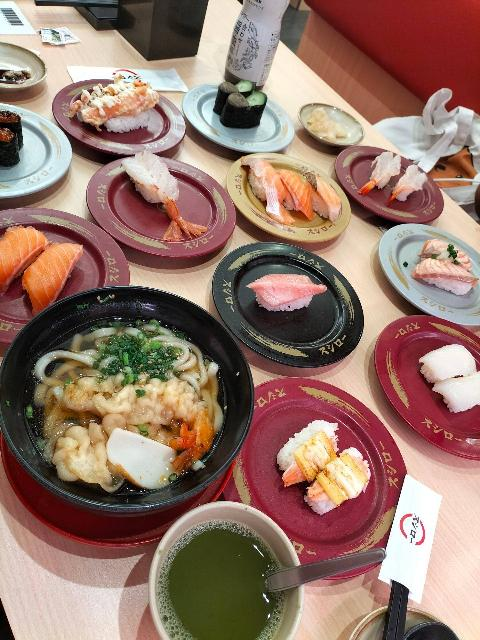janback: (209, 252, 350, 364)
jangold: (236, 150, 352, 243)
janred: (24, 323, 168, 558), (0, 198, 145, 370), (237, 382, 379, 530), (387, 317, 480, 448), (58, 52, 181, 150), (109, 158, 221, 259), (350, 137, 418, 221)
janwhite: (371, 226, 472, 330), (196, 68, 284, 161), (0, 98, 70, 202)
